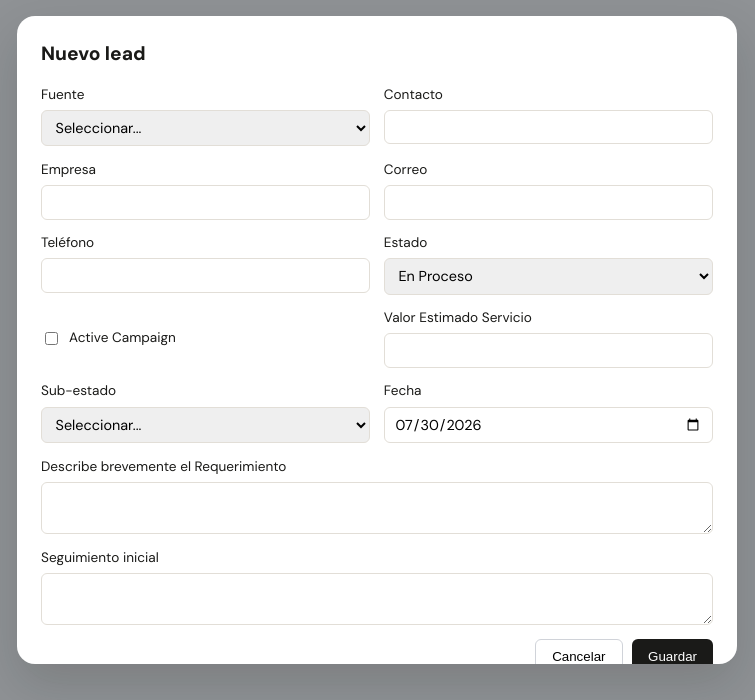
Test: LeadFormModal › render condicional por estado (mutuamente excluyente) › estado=rechazado: muestra motivo + "Fecha de rechazado", NO proceso ni convertido
Expected: the text "Estado" is shown, x1=384 y1=233 x2=713 y2=295
Select "Rechazado" in the dropdown labelled "Estado" at (548, 276), box x1=384 y1=258 x2=713 y2=295
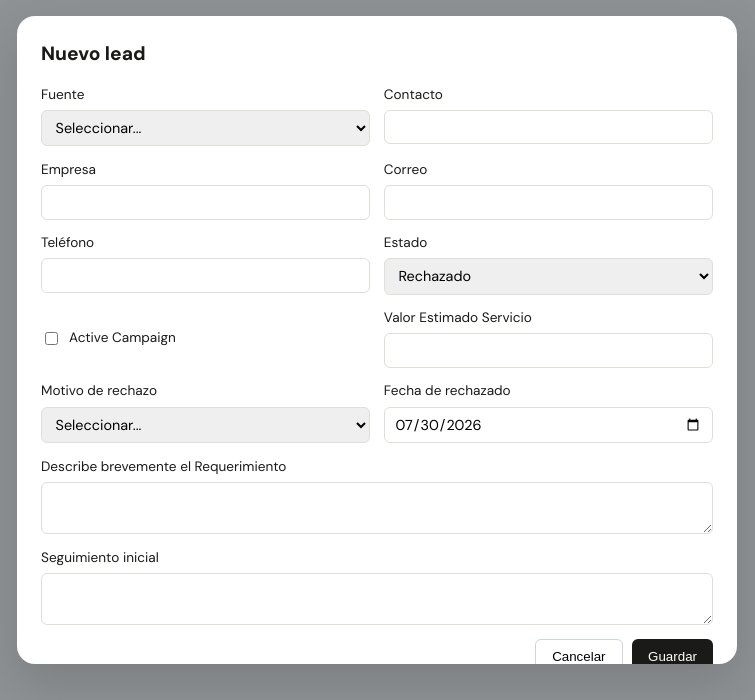
Now the text "Motivo de rechazo" is shown, box x1=41 y1=382 x2=157 y2=399
Now the text "Fecha de rechazado" is shown, box x1=384 y1=382 x2=511 y2=399
Now the text "Sub-estado" is gone
